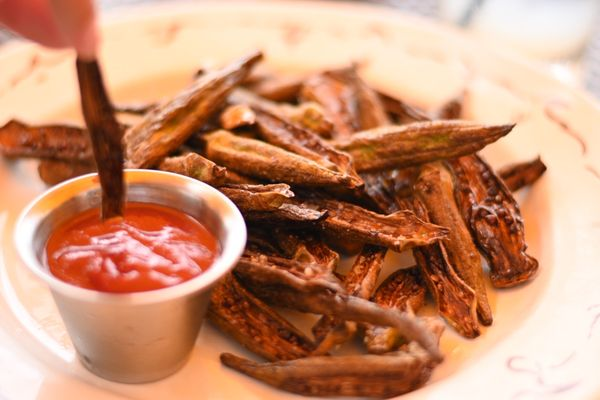pizza: (9, 167, 248, 383)
